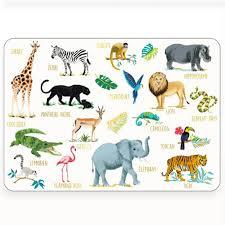Non_Gorille: (9, 21, 214, 189)
